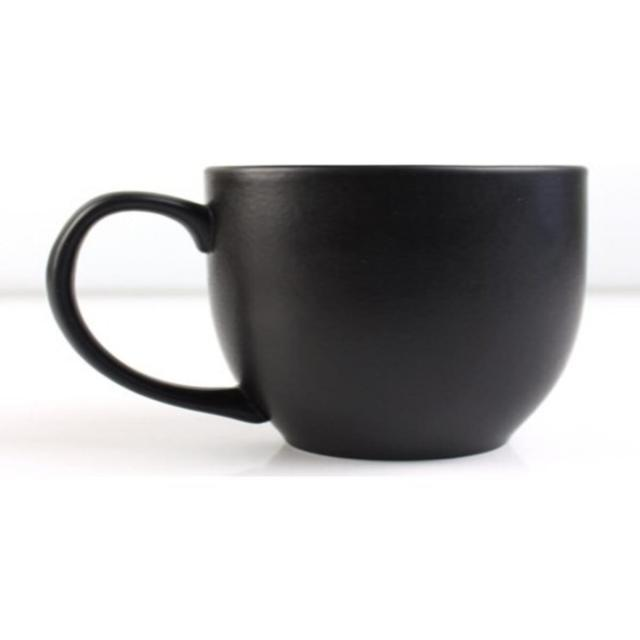Coffee Mug: (43, 163, 592, 465)
